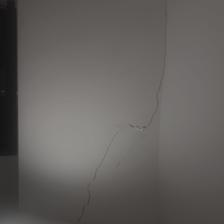Medium: (72, 103, 166, 220)
